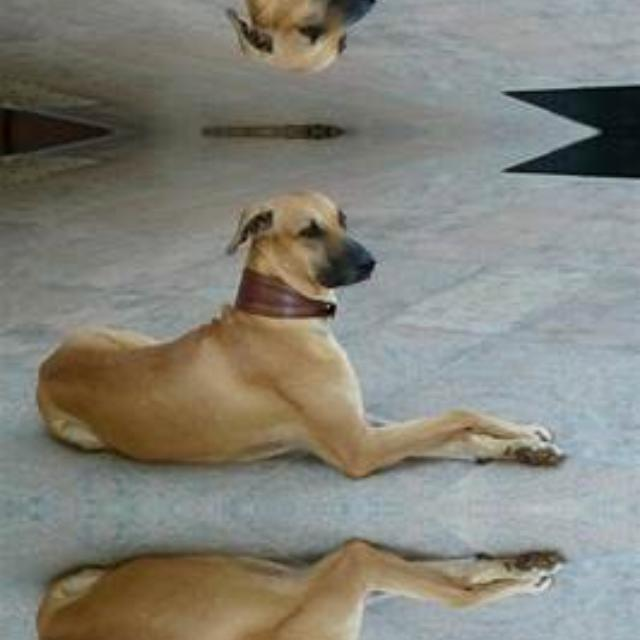dog: (22, 185, 610, 509), (22, 509, 609, 640), (22, 0, 609, 77)
